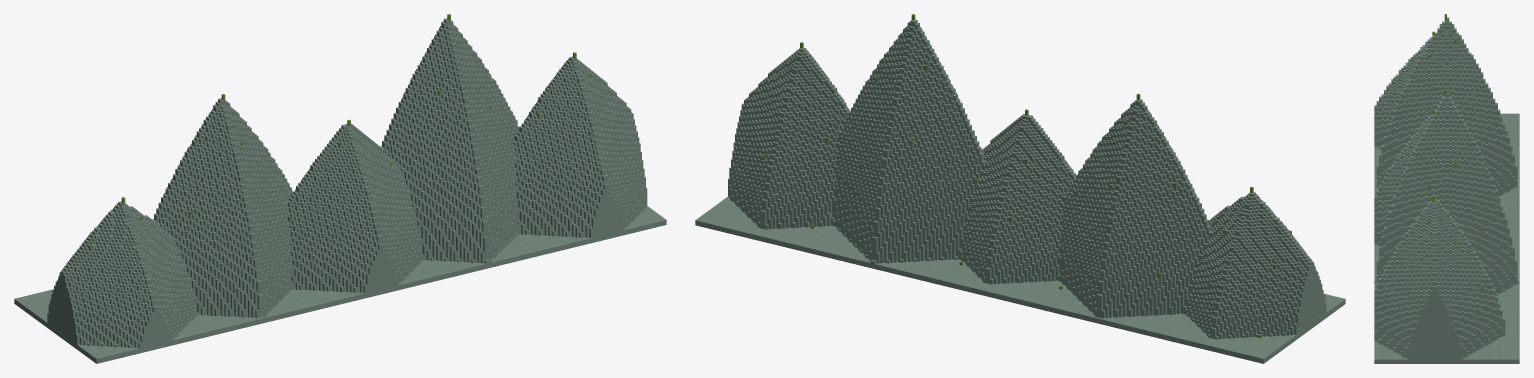
3 views of the same model, side by side, from view 1: azimuth 30°, elevation 25°; view 2: azimuth 150°, elevation 25°; view 3: azimuth 270°, elevation 25° (orthographic). The views are drawn at different scales.
Visible parts, largest first — view 1: 远山叠嶂岩脊代理母版; view 2: 远山叠嶂岩脊代理母版; view 3: 远山叠嶂岩脊代理母版.
Boxes of the visible parts, <box> form: 远山叠嶂岩脊代理母版: <box>14,14,666,363</box>; 远山叠嶂岩脊代理母版: <box>695,14,1345,363</box>; 远山叠嶂岩脊代理母版: <box>1374,14,1519,363</box>.
Bounding box in the file's own units: 48 × 18 × 12.
Materials: 3 (3 with a texture image).
